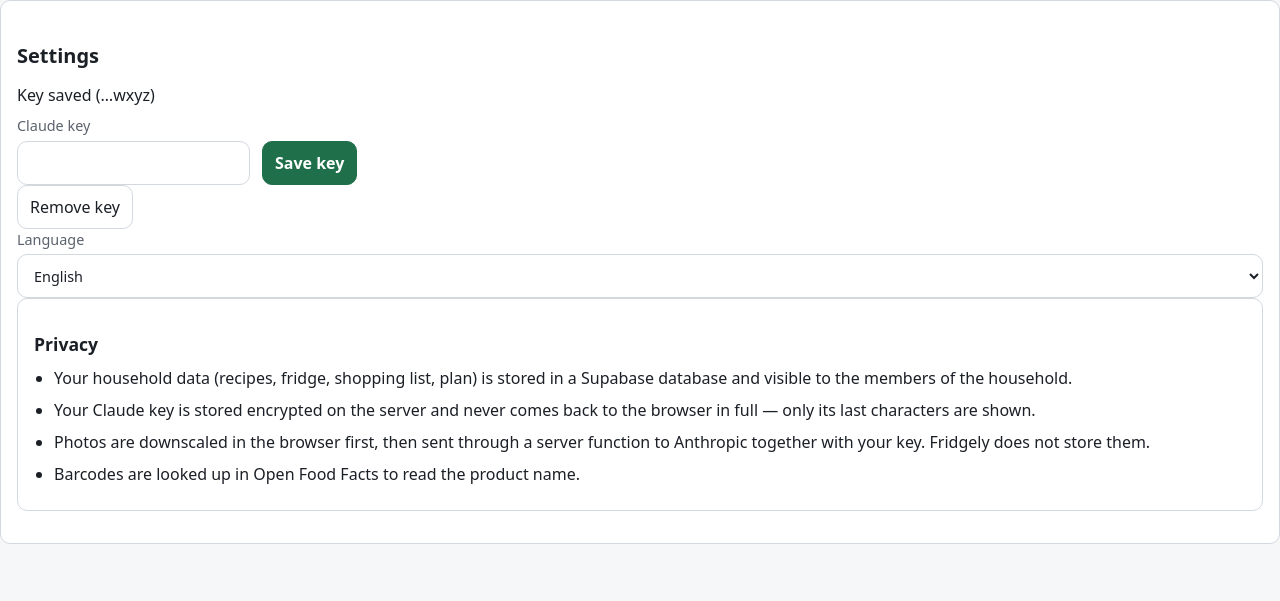
Test: SettingsView › alerts and keeps the key when removing it fails
Click the button "Remove key" at coordinates (75, 207), box [17, 185, 133, 229]
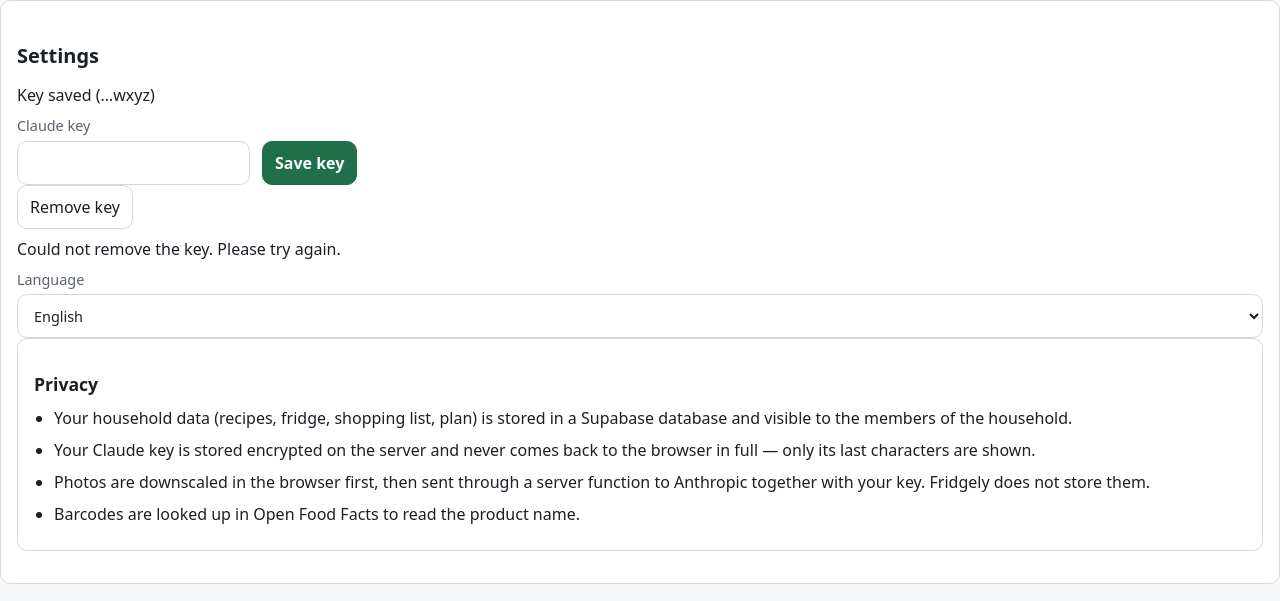
Expected: the message reads "Could not remove the key. Please try again.", [17, 238, 341, 260]
